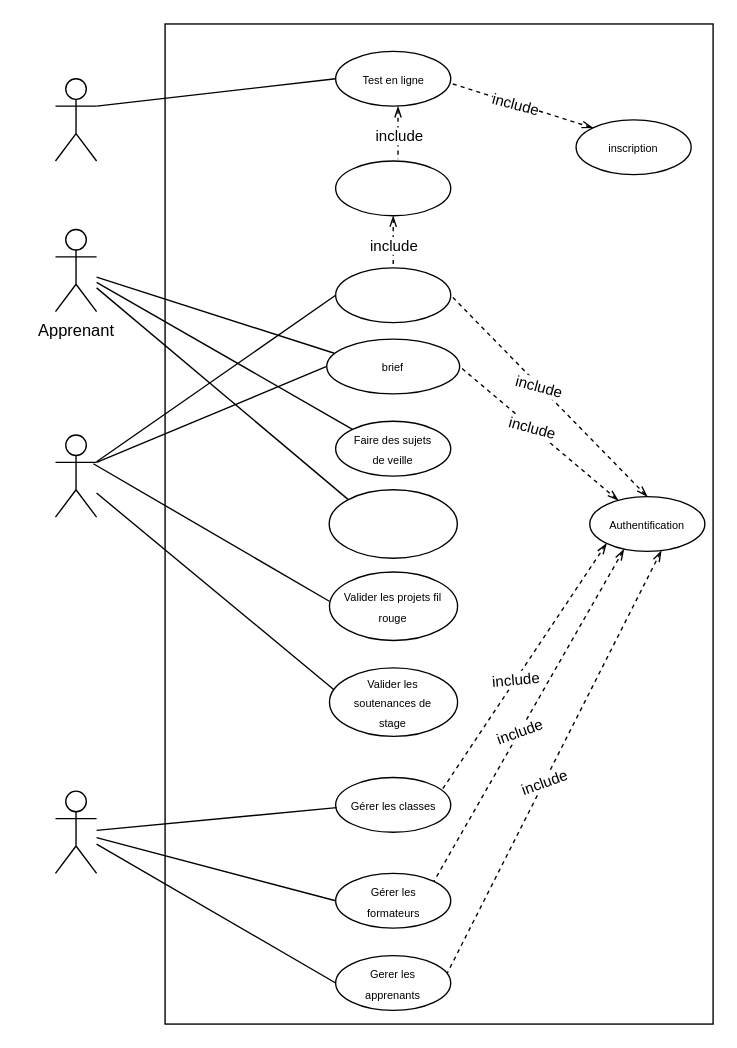
The diagram is 737 pixels wide and 1048 high, and some of its shapes have lost their labels. The centre of each missing label's shape, as x and y in pixels:
Administration: [75,831]
Candidat: [75,119]
Consulter l'etat d'vancement et Ref: [392,523]
Formateur: [75,475]
Sas: [392,294]
Sourcing: [392,188]
